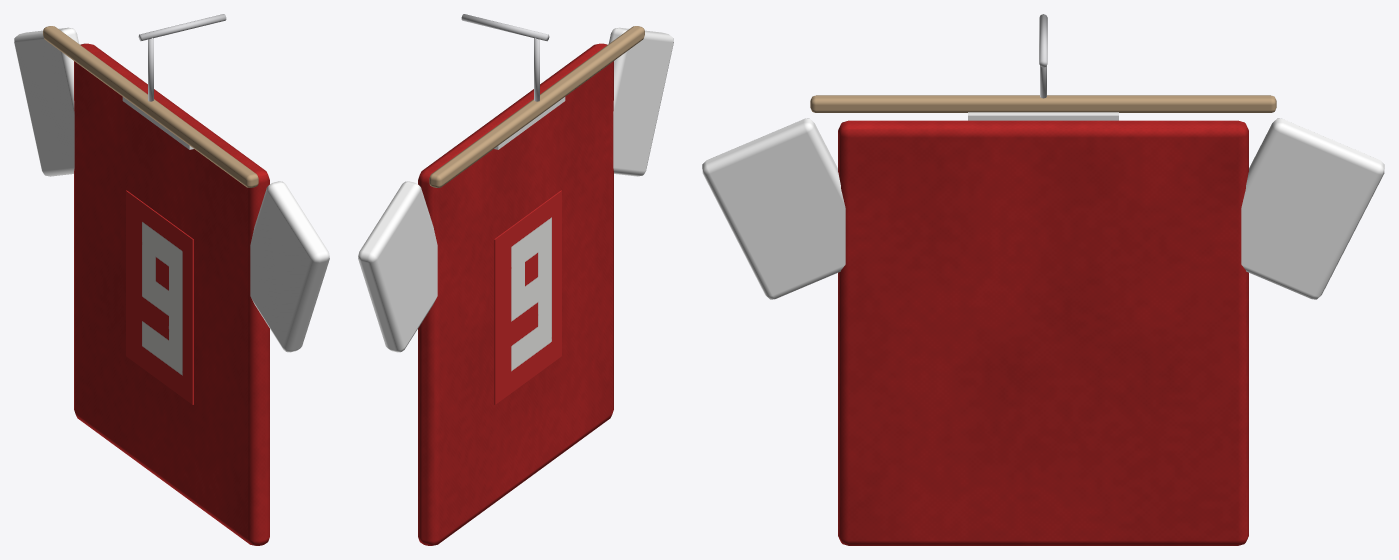
File: escena.casa.camiseta_seleccion.fbx
3 renders of one model, left to right at view 1: azimuth 30°, elevation 25°; view 2: azimuth 150°, elevation 25°; view 3: azimuth 270°, elevation 25°, orthographic. The views are drawn at different scales.
Visible parts, largest first — view 1: camiseta, Numero, Manga.001, Manga, Colgador, Clavo; view 2: camiseta, Numero, Manga, Manga.001, Colgador, Clavo; view 3: camiseta, Manga, Manga.001, Colgador, Cuello.
Boxes of the visible parts, x1,y1,x2,y2 form: camiseta: [74, 43, 269, 545]; Numero: [126, 190, 193, 404]; Manga.001: [250, 181, 329, 352]; Manga: [14, 27, 79, 176]; Colgador: [43, 26, 258, 187]; Clavo: [138, 14, 226, 41]; camiseta: [418, 43, 613, 545]; Numero: [494, 190, 561, 404]; Manga: [358, 181, 437, 352]; Manga.001: [608, 27, 673, 176]; Colgador: [429, 26, 644, 187]; Clavo: [461, 14, 549, 41]; camiseta: [838, 120, 1248, 545]; Manga: [1241, 118, 1384, 299]; Manga.001: [702, 118, 845, 299]; Colgador: [810, 95, 1276, 112]; Cuello: [968, 112, 1118, 120].
Bounding box in the file's own units: 0.08 × 0.413 × 0.4976.
6 materials, 2 textured.
